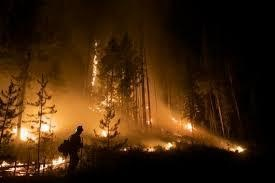fire: (6, 110, 59, 143), (88, 48, 102, 88), (96, 124, 113, 138), (48, 154, 66, 166)
